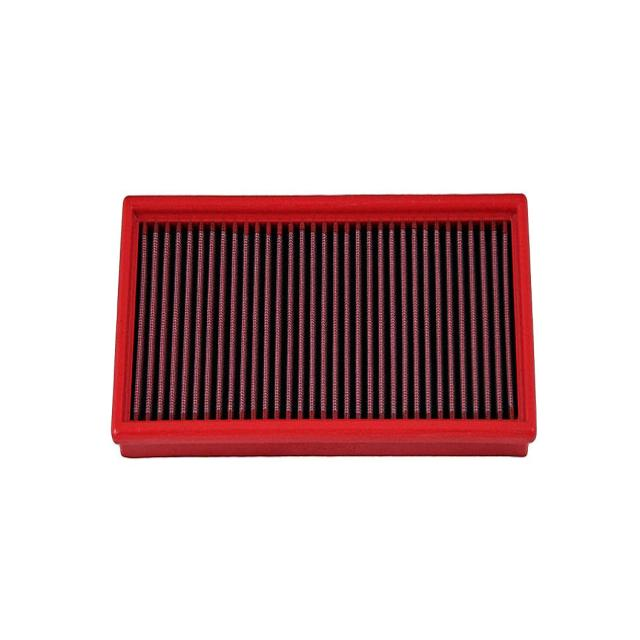air_filter: (108, 187, 537, 470)
